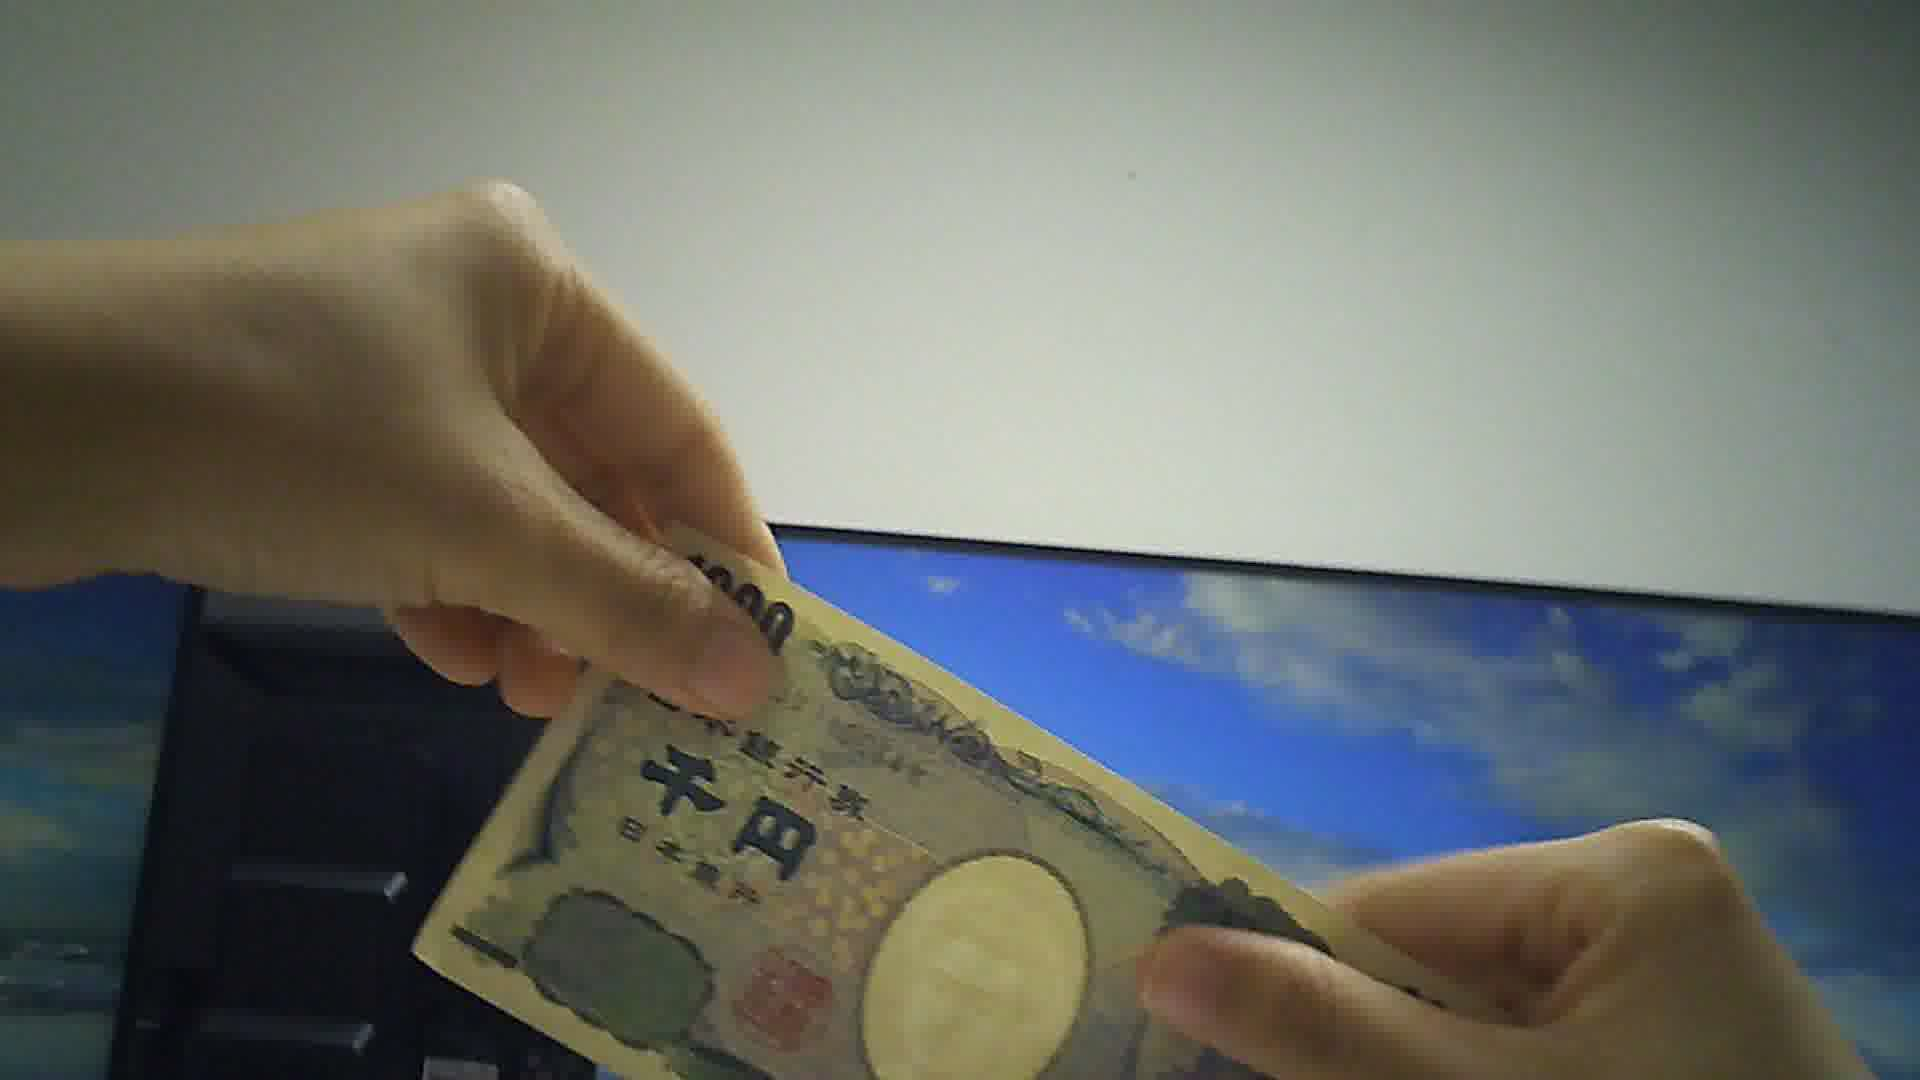1,000 Yen: (411, 510, 1435, 1079)
